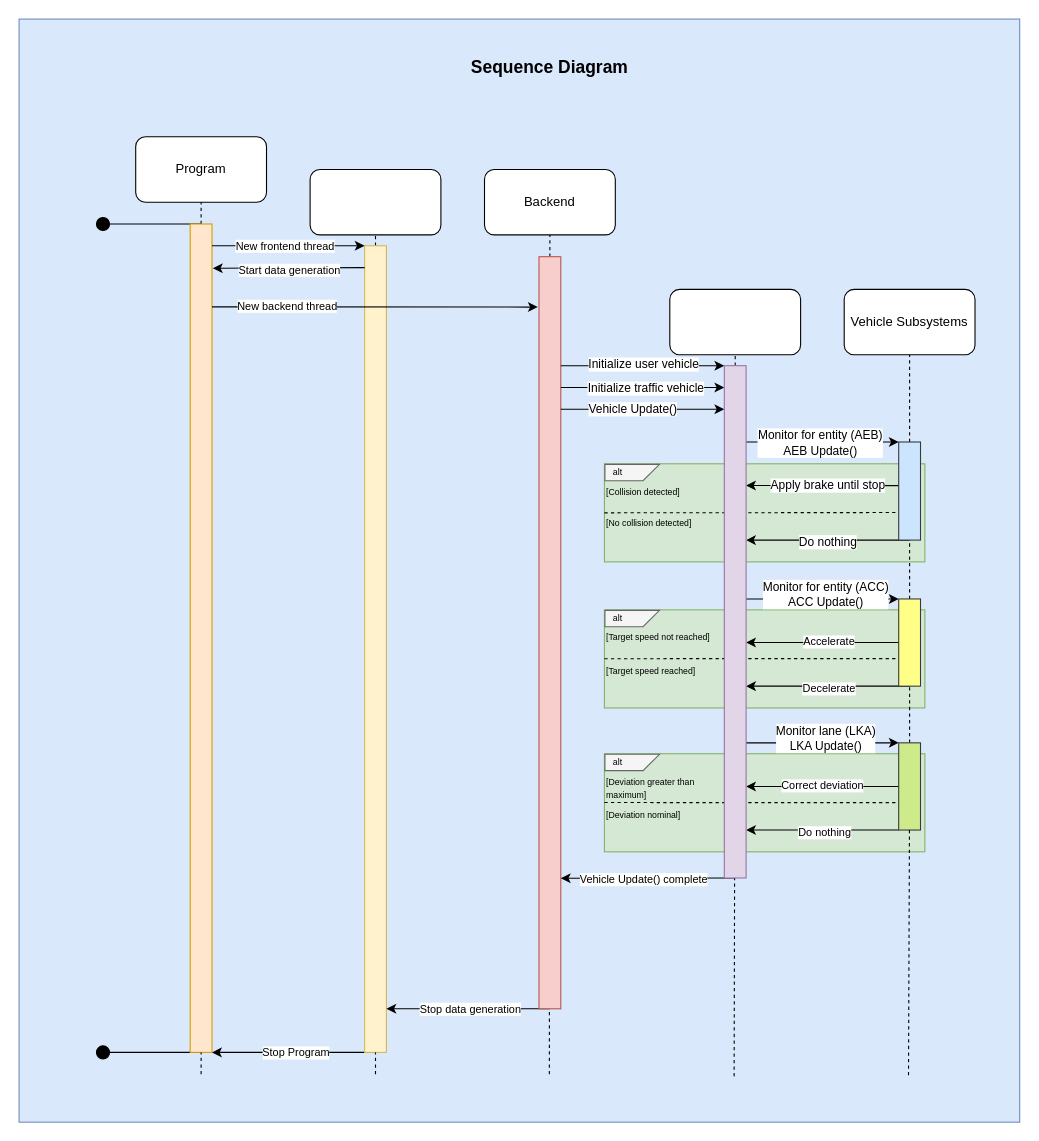
Some shapes in this 1039 by 1141 pixel diagram are drawn without their labels. Here are the shapes that lost their labels. From the top down, the centre of each, then its label:
At point (375, 201): "Frontend".
At point (735, 321): "Vehicle".
